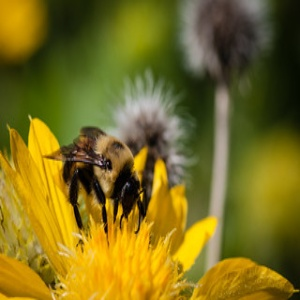bee: (61, 126, 147, 251)
